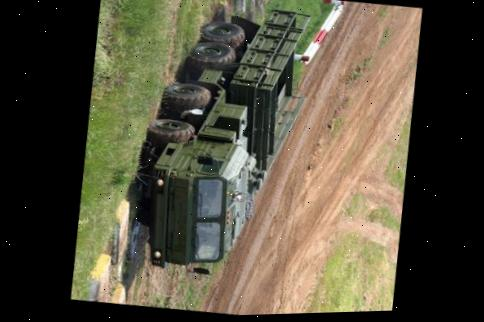truck: (123, 0, 325, 291)
